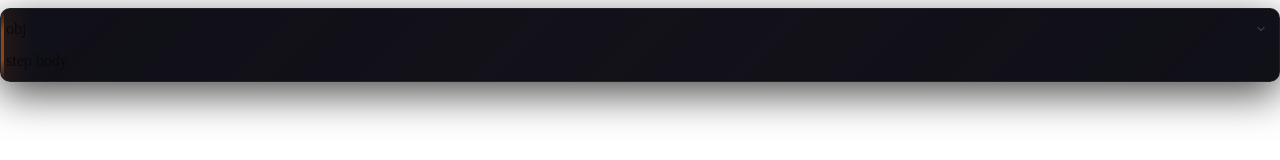
Test case: CardChassis (T8) › collapse affordance (REQ-1 AC4) › shows children by default and hides them on toggle
Expected: the text "step body" is shown, [6,52,68,69]
Click the button named "collapse card".
click(1261, 29)  # box [1251,19,1271,39]
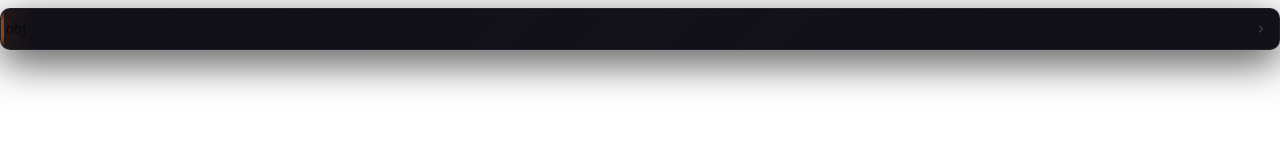
Result: the text "step body" is gone
